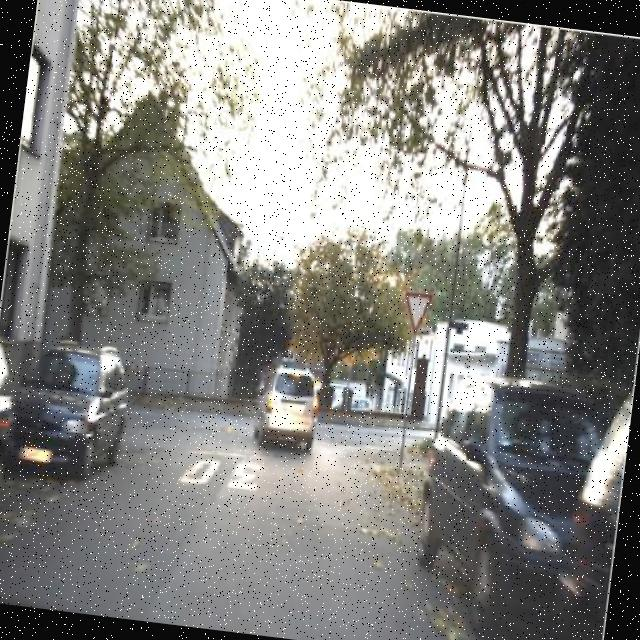Ustap pierwszenstwa: (400, 288, 432, 340)
